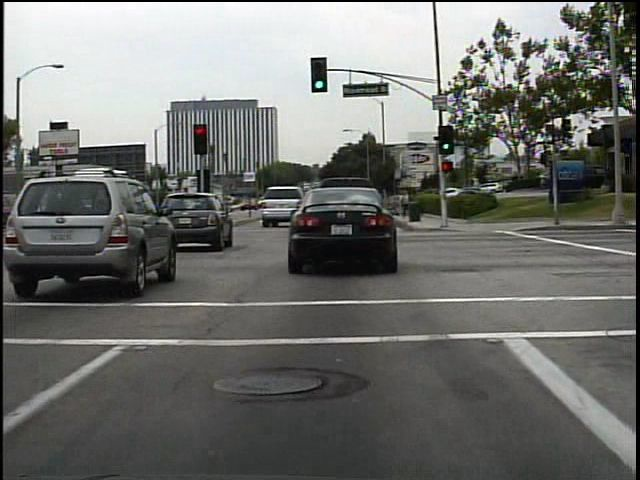person: (399, 190, 410, 219)
